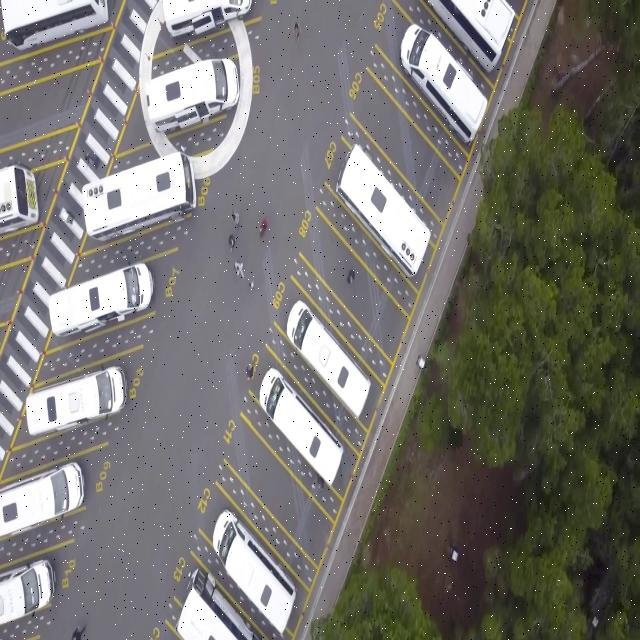people: (71, 623, 87, 640), (230, 209, 242, 231), (85, 153, 100, 169), (258, 216, 268, 237), (228, 235, 238, 253), (293, 24, 302, 44), (346, 268, 356, 285), (235, 260, 244, 278), (246, 364, 254, 379), (249, 280, 254, 290)
